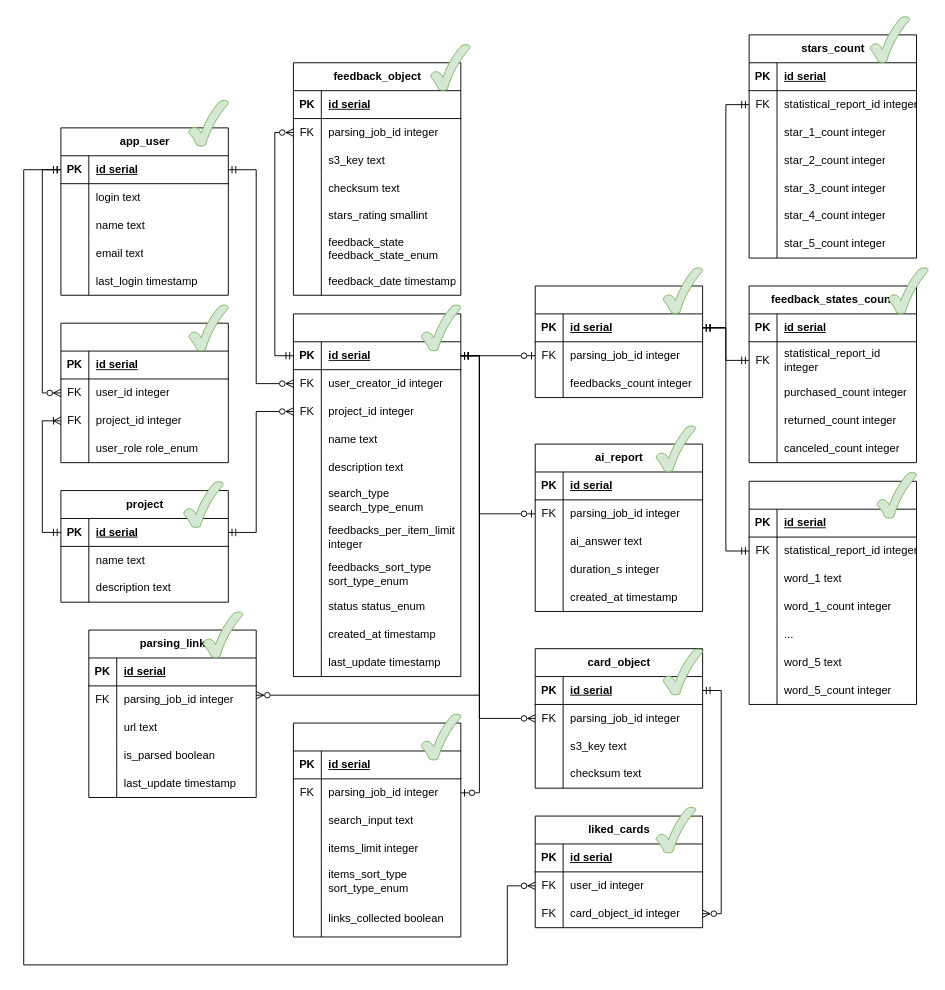
This 945x990 diagram has some shape labels left out. Each missing label, with the box of its shape:
parsing_job: (292, 313, 461, 677)
search_by_text: (292, 722, 461, 937)
statistical_report: (534, 285, 703, 398)
top_5_words: (748, 480, 917, 704)
user_per_project: (60, 322, 228, 463)
